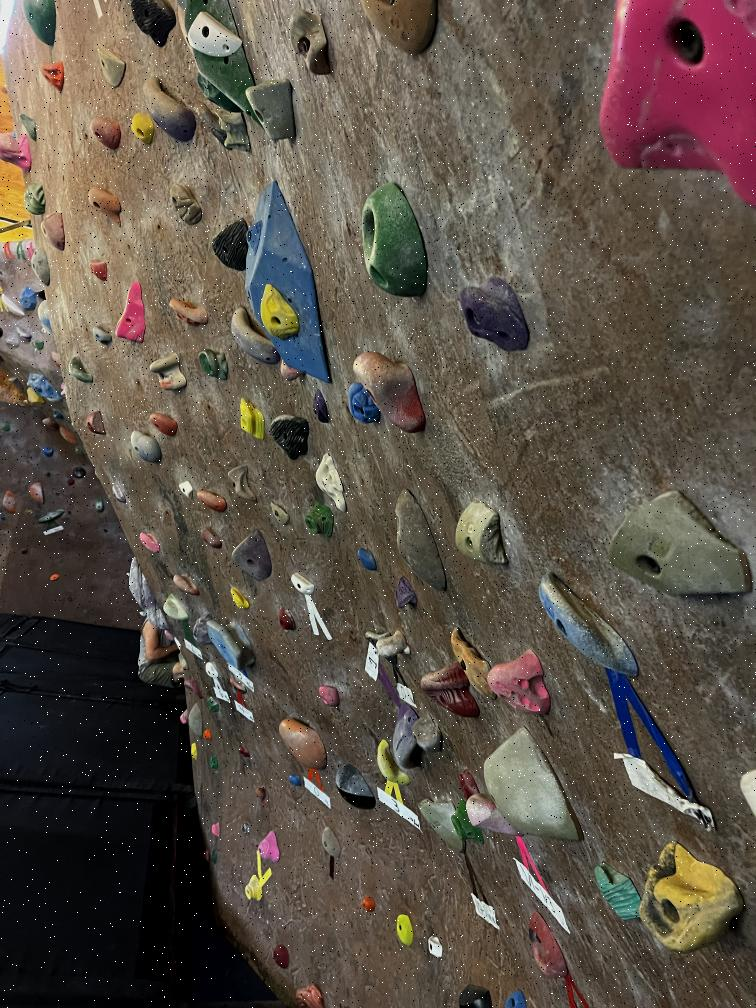Crimp: (446, 268, 542, 356), (443, 622, 498, 707), (591, 857, 644, 925), (85, 184, 128, 228), (236, 392, 265, 447), (93, 44, 128, 89), (286, 564, 316, 601), (316, 823, 343, 861), (128, 111, 157, 146), (267, 498, 294, 526), (274, 608, 300, 633), (425, 935, 447, 962), (203, 659, 219, 681), (178, 480, 193, 500), (210, 822, 224, 841), (206, 696, 219, 715), (208, 754, 220, 772), (189, 742, 199, 762), (1, 419, 13, 433), (202, 728, 212, 743), (40, 328, 47, 335)
Edges: (452, 494, 513, 572), (332, 757, 377, 816), (456, 980, 493, 1008)
Foothold: (290, 976, 328, 1008), (392, 912, 416, 948), (241, 873, 265, 908), (243, 222, 264, 259), (270, 944, 296, 970), (504, 986, 528, 1008), (358, 897, 379, 914), (252, 783, 271, 800), (208, 846, 222, 867), (237, 820, 252, 838), (203, 850, 213, 866), (48, 573, 62, 582), (20, 546, 30, 556), (137, 610, 147, 618), (66, 479, 76, 487), (66, 596, 75, 604), (43, 472, 53, 478), (1, 514, 7, 520), (28, 509, 34, 514)
Hand-holds: (605, 489, 756, 602), (632, 834, 753, 964), (244, 76, 298, 143), (464, 792, 526, 839), (312, 447, 351, 518), (125, 0, 178, 51), (446, 797, 488, 849), (345, 378, 385, 430), (215, 105, 255, 157), (168, 180, 205, 229), (146, 351, 189, 393), (220, 461, 258, 506), (302, 498, 336, 544), (128, 425, 164, 468), (198, 346, 230, 387), (0, 132, 31, 173), (255, 826, 282, 868), (308, 386, 333, 431), (393, 575, 419, 618), (375, 628, 411, 659), (22, 182, 48, 215), (193, 612, 215, 649), (84, 410, 109, 437), (316, 684, 340, 712), (182, 673, 202, 700), (20, 286, 37, 314), (236, 744, 257, 760), (39, 415, 57, 432), (179, 708, 188, 726), (94, 498, 104, 512), (72, 447, 85, 457)
Jug: (348, 347, 432, 439), (483, 644, 555, 722), (417, 661, 485, 723), (283, 10, 338, 79), (230, 305, 280, 369), (205, 610, 258, 670), (415, 797, 467, 858), (205, 212, 248, 282), (258, 280, 302, 343), (191, 98, 234, 156), (391, 701, 422, 772), (269, 408, 309, 462), (374, 737, 412, 788), (37, 211, 69, 255), (167, 292, 208, 326), (87, 115, 125, 151), (37, 59, 74, 94), (170, 565, 201, 601), (454, 766, 483, 802), (197, 486, 230, 516), (68, 355, 98, 388), (147, 408, 181, 436), (162, 593, 189, 628), (224, 585, 256, 610), (136, 527, 161, 557), (355, 547, 382, 574), (18, 113, 44, 141), (354, 624, 393, 642), (87, 257, 112, 282), (93, 322, 114, 350), (228, 676, 249, 697), (14, 325, 31, 340), (31, 340, 45, 352)
Pinch: (533, 567, 643, 683), (407, 713, 446, 760), (197, 524, 224, 551), (0, 293, 25, 319), (34, 507, 68, 526), (109, 484, 130, 504), (5, 337, 20, 350)
Pocket: (354, 164, 435, 307), (522, 904, 572, 986), (71, 464, 88, 478), (42, 443, 54, 459), (52, 410, 64, 421)
Sloper: (477, 723, 589, 845), (389, 485, 455, 599), (128, 557, 170, 633), (186, 9, 246, 61), (278, 716, 329, 772), (112, 279, 151, 348), (228, 530, 278, 581), (16, 0, 65, 46), (30, 250, 52, 286), (24, 481, 47, 505), (188, 703, 204, 737), (2, 488, 18, 516), (59, 425, 79, 446), (26, 386, 42, 408), (7, 375, 25, 392)
